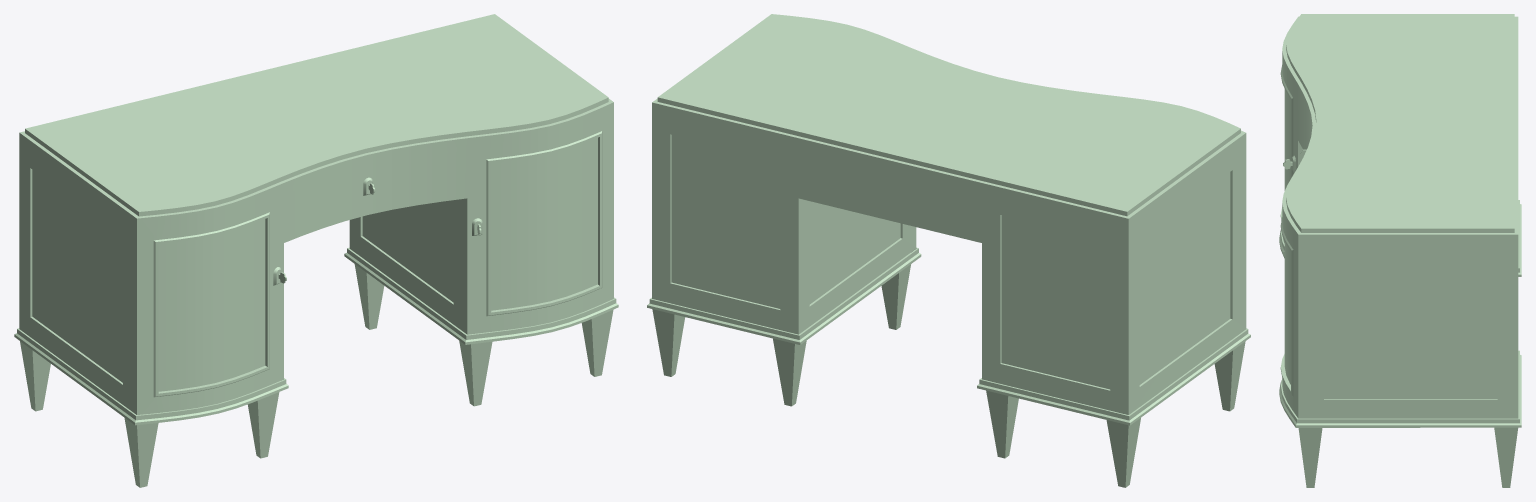
Rendered from SM_Desk_04.fbx.
3 renders of one model, left to right at view 1: azimuth 30°, elevation 25°; view 2: azimuth 150°, elevation 25°; view 3: azimuth 270°, elevation 25°, orthographic. The views are drawn at different scales.
Parts seen in each view (by area): view 1: SM_Desk_04; view 2: SM_Desk_04; view 3: SM_Desk_04.
Part boxes in pixels (left/top/right/bottom): SM_Desk_04: left=14, top=14, right=618, bottom=487; SM_Desk_04: left=647, top=14, right=1250, bottom=487; SM_Desk_04: left=1279, top=14, right=1521, bottom=487.
Bounding box in the file's own units: 202 × 112 × 93.93.
